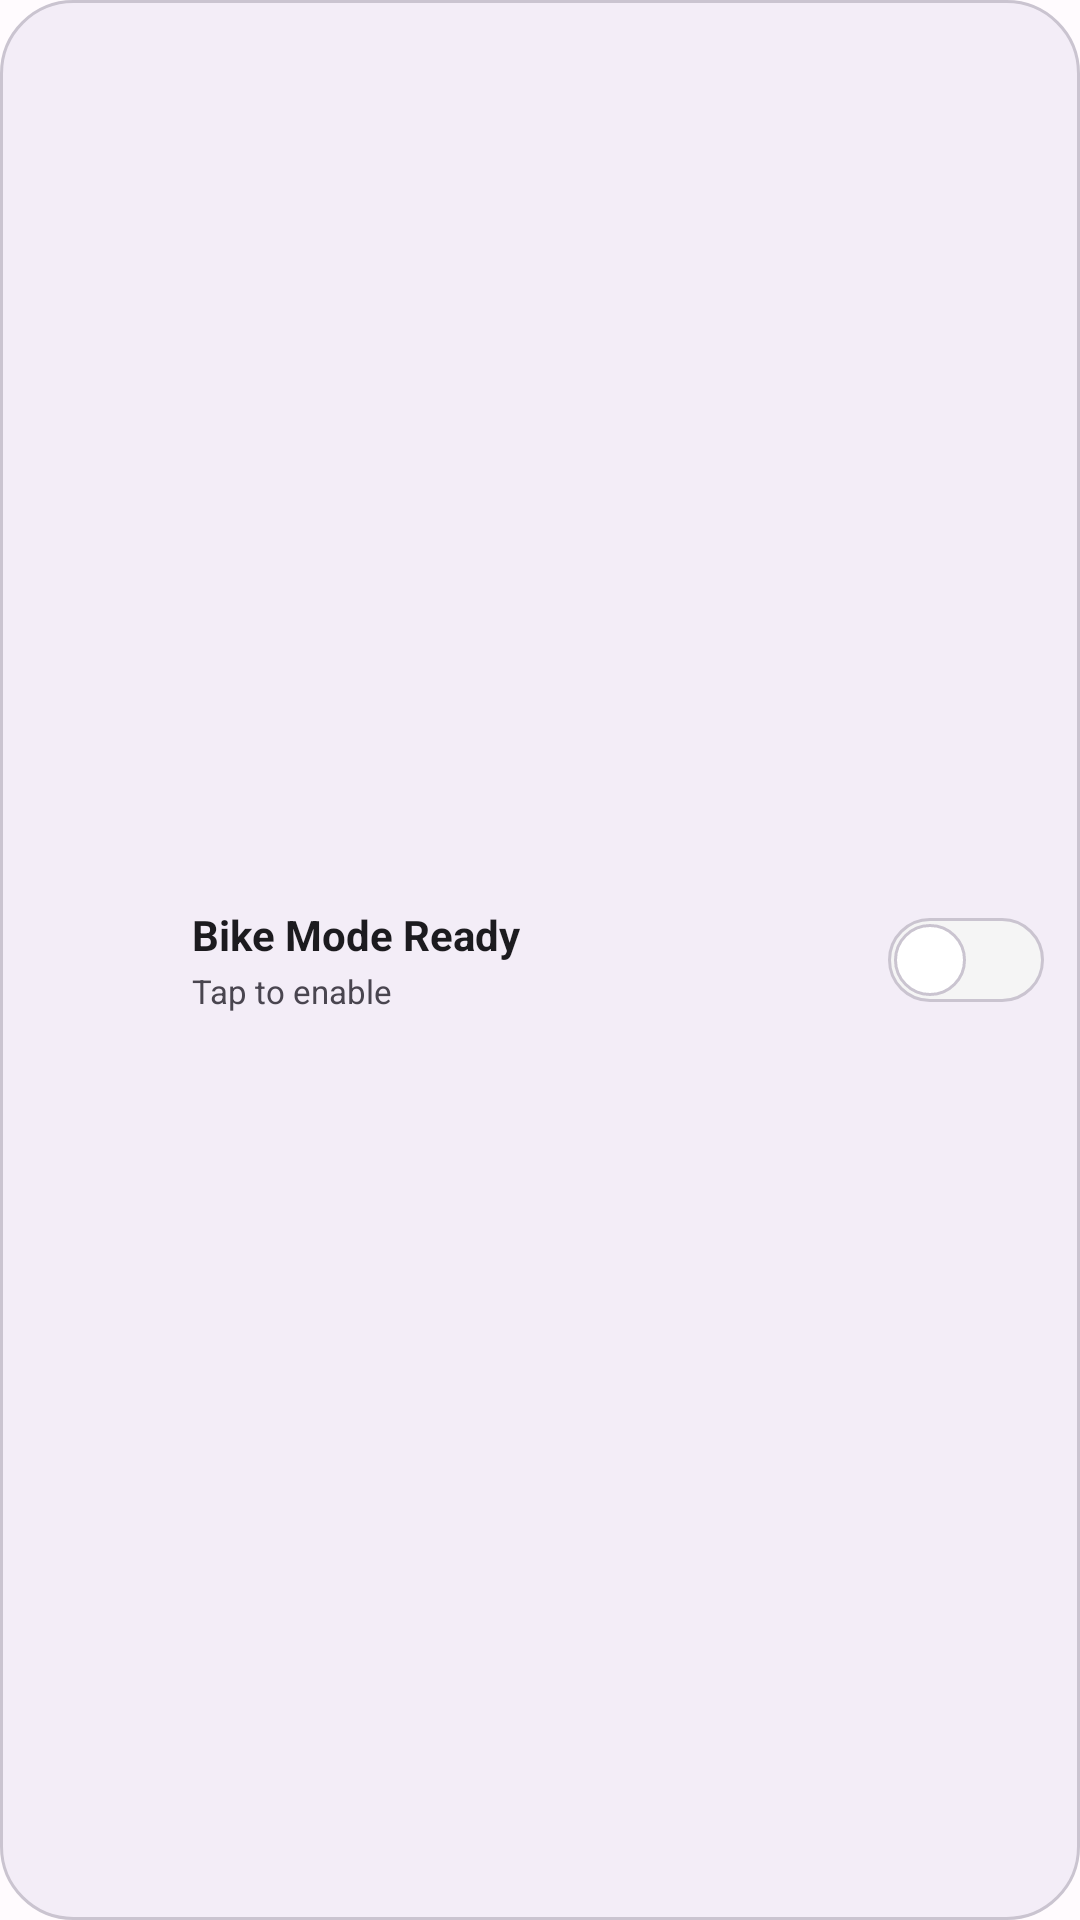

Locate icon controls on the screen. Image size 1080 x 1920, boxes as bbox=[x1, y1, x2, y2].
widget toggle thumb off: bbox=[894, 924, 966, 996]
